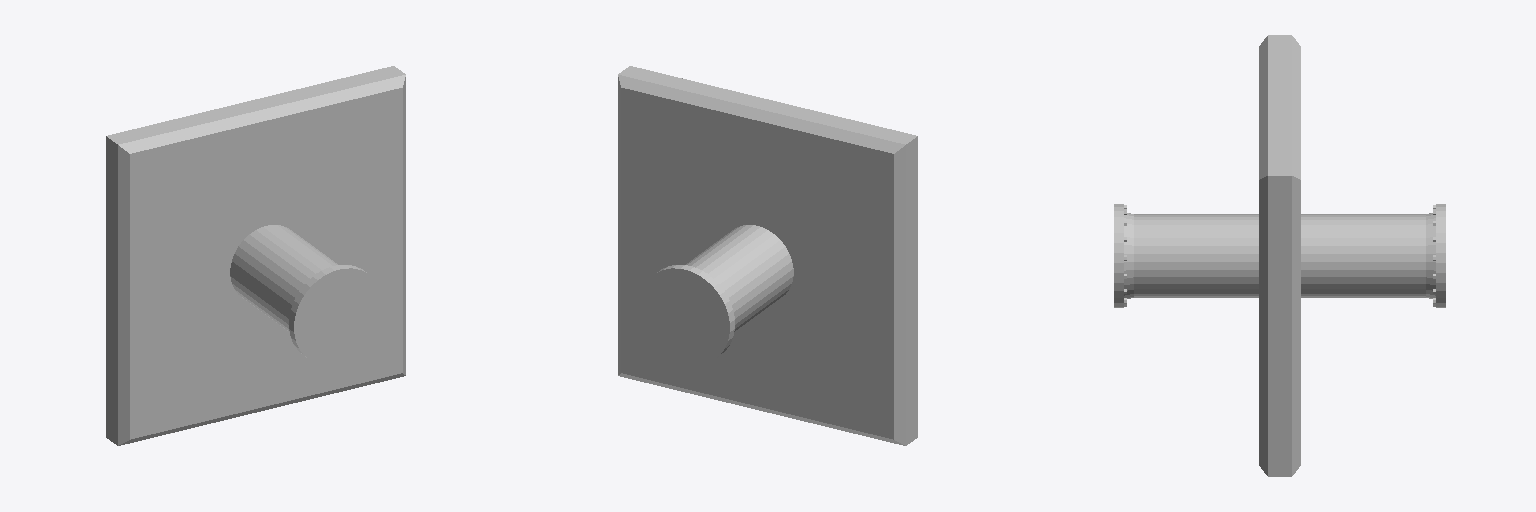
File: pipeworks_entry_panel.obj
3 renders of one model, left to right at view 1: azimuth 30°, elevation 25°; view 2: azimuth 150°, elevation 25°; view 3: azimuth 270°, elevation 25°, orthographic.
Visible parts, largest first — view 1: Cube.001; view 2: Cube.001; view 3: Cube.001.
Boxes of the visible parts, box(x1,y1,x2,y2) form: Cube.001: box(106, 66, 405, 445); Cube.001: box(618, 66, 917, 445); Cube.001: box(1114, 35, 1445, 476).
Bounding box in the file's own units: 1 × 1 × 1.